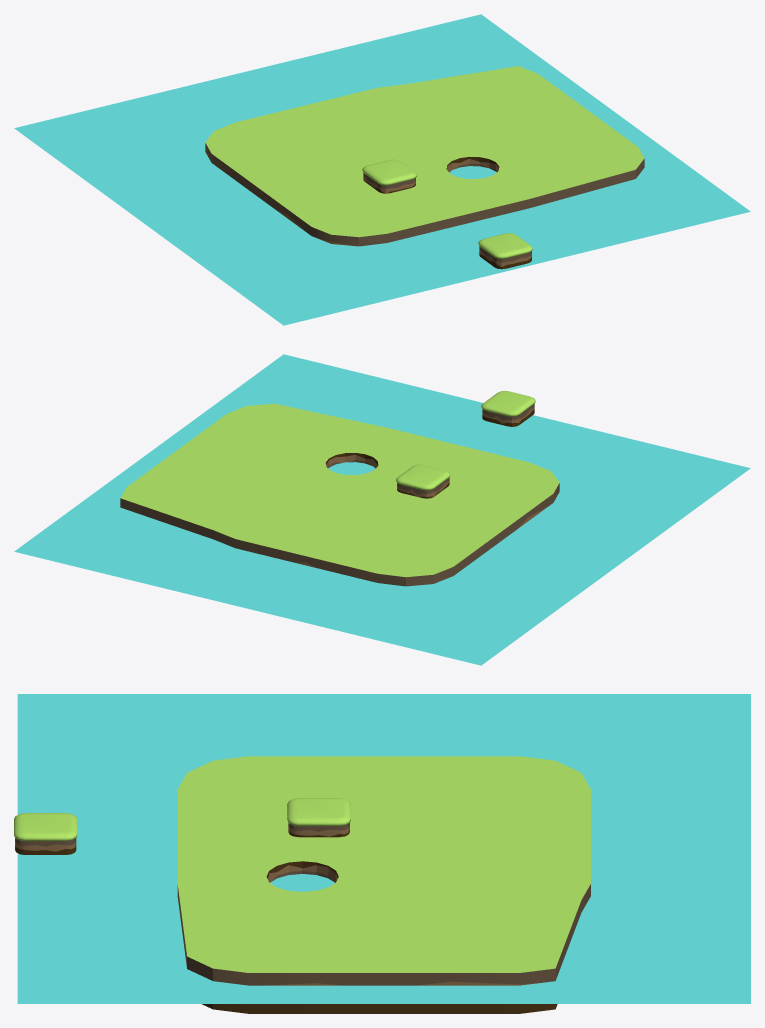
File: platform.fbx
3 views of the same model, one above another, from view 1: azimuth 30°, elevation 25°; view 2: azimuth 150°, elevation 25°; view 3: azimuth 270°, elevation 25° (orthographic). The views are drawn at different scales.
Visible parts, largest first — view 1: Plane.029, Plane.030, Plane.024, Plane.028, Plane.013; view 2: Plane.029, Plane.030, Plane.024, Plane.028, Plane.013; view 3: Plane.029, Plane.030, Plane.028, Plane.024, Plane.013, Plane.016.
Part boxes in pixels (x1,y1,x2,y2): Plane.029: (14, 14, 750, 325); Plane.030: (205, 66, 644, 246); Plane.024: (362, 159, 416, 185); Plane.028: (478, 233, 532, 258); Plane.013: (479, 246, 531, 269); Plane.029: (14, 354, 750, 665); Plane.030: (120, 403, 559, 586); Plane.024: (396, 464, 450, 490); Plane.028: (481, 391, 535, 416); Plane.013: (482, 404, 534, 426); Plane.029: (17, 694, 750, 1003); Plane.030: (177, 756, 590, 1013); Plane.028: (14, 813, 77, 841); Plane.024: (287, 798, 350, 826); Plane.013: (15, 838, 76, 854); Plane.016: (288, 823, 349, 837).
Size of the model in its own units: 566 by 49.38 by 569.
